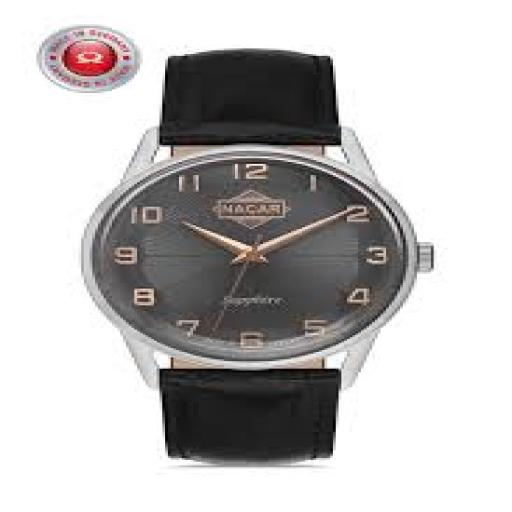KolSaati: (69, 38, 456, 479)
